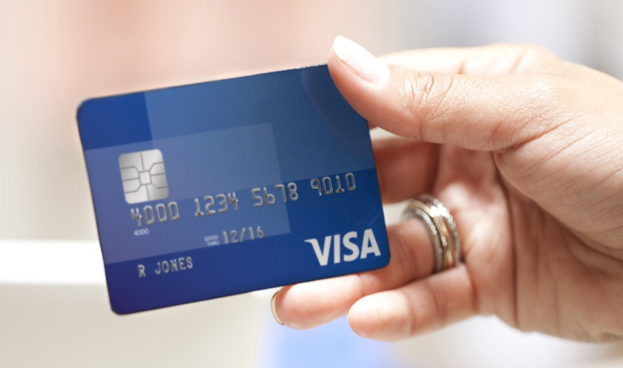tarjeta: (77, 63, 392, 315)
